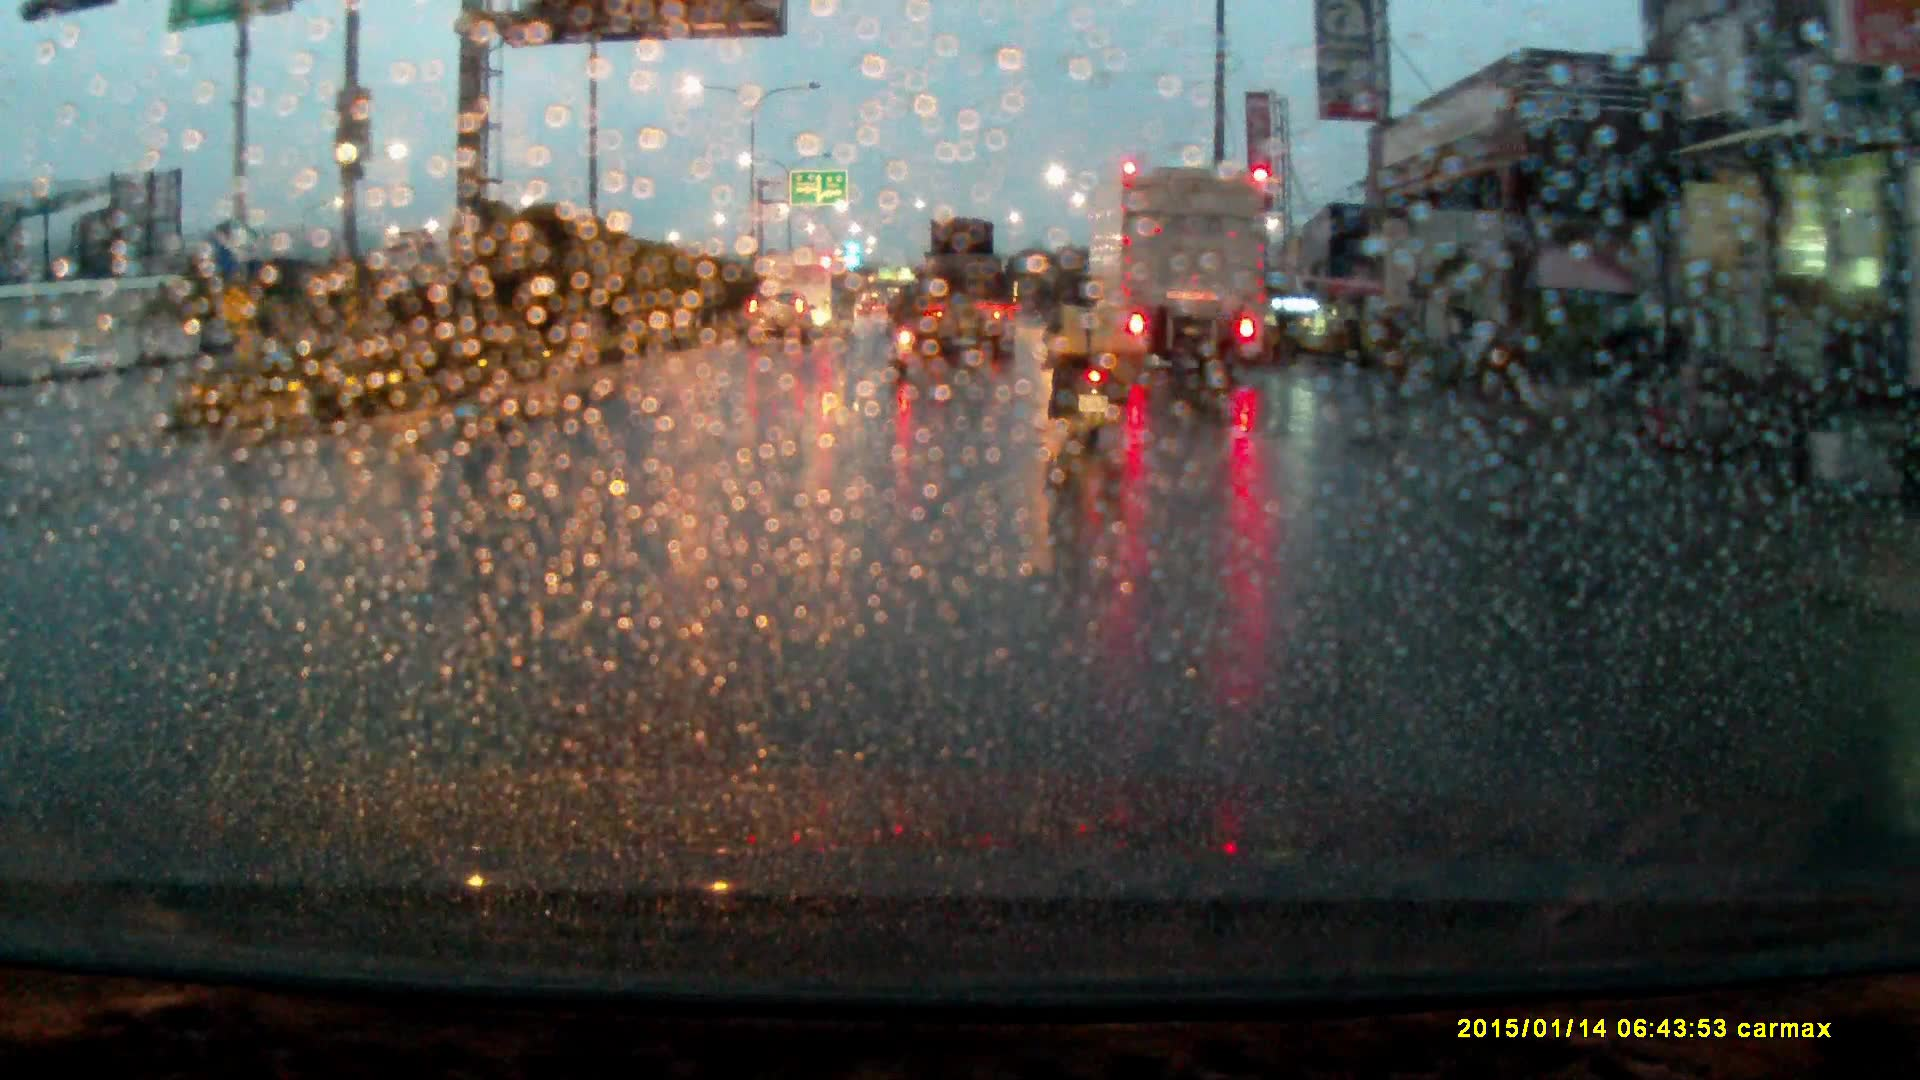rider: (1045, 258, 1129, 445), (890, 268, 928, 364)
vehicle: (1083, 156, 1276, 376), (904, 214, 1008, 362), (774, 244, 849, 327), (747, 285, 818, 351)
